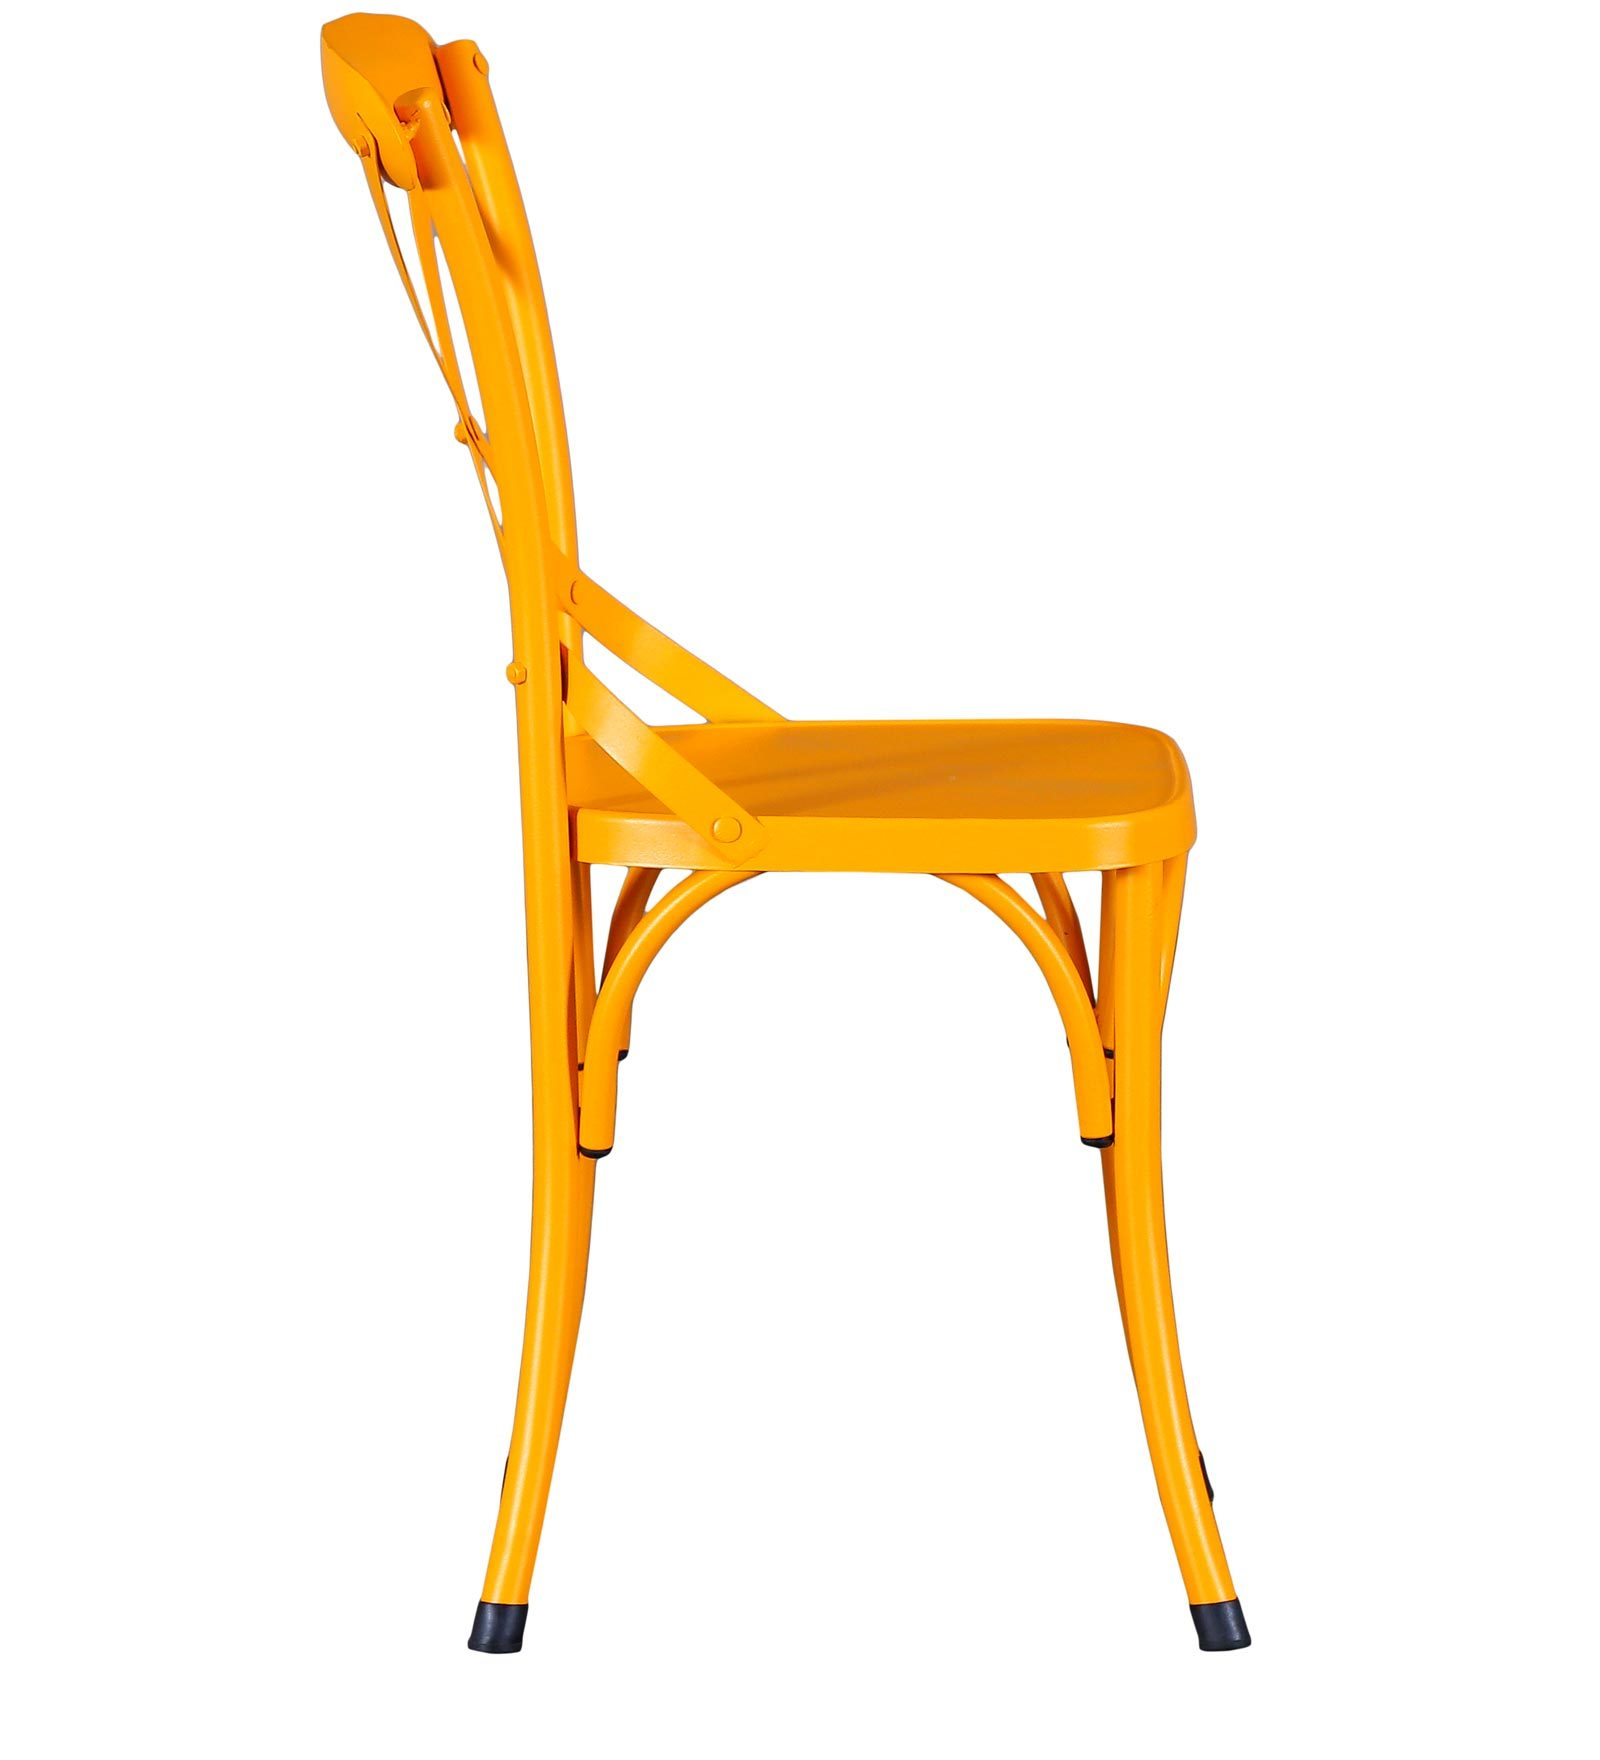Fabian Metal Chair in Yellow Color by Bohemiana: (274, 5, 1355, 1696)
